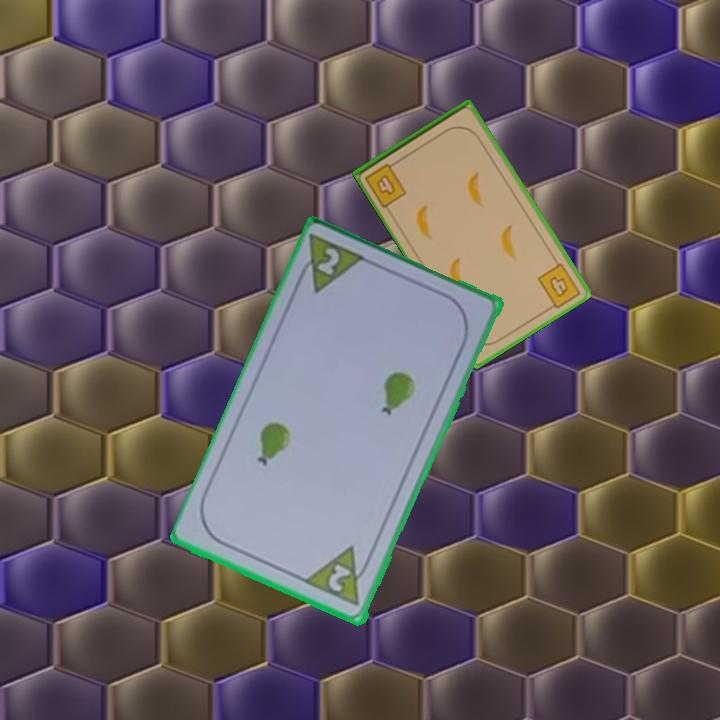2p: (291, 231, 370, 297), (302, 542, 376, 610)
4b: (534, 259, 583, 313), (361, 157, 410, 210)
